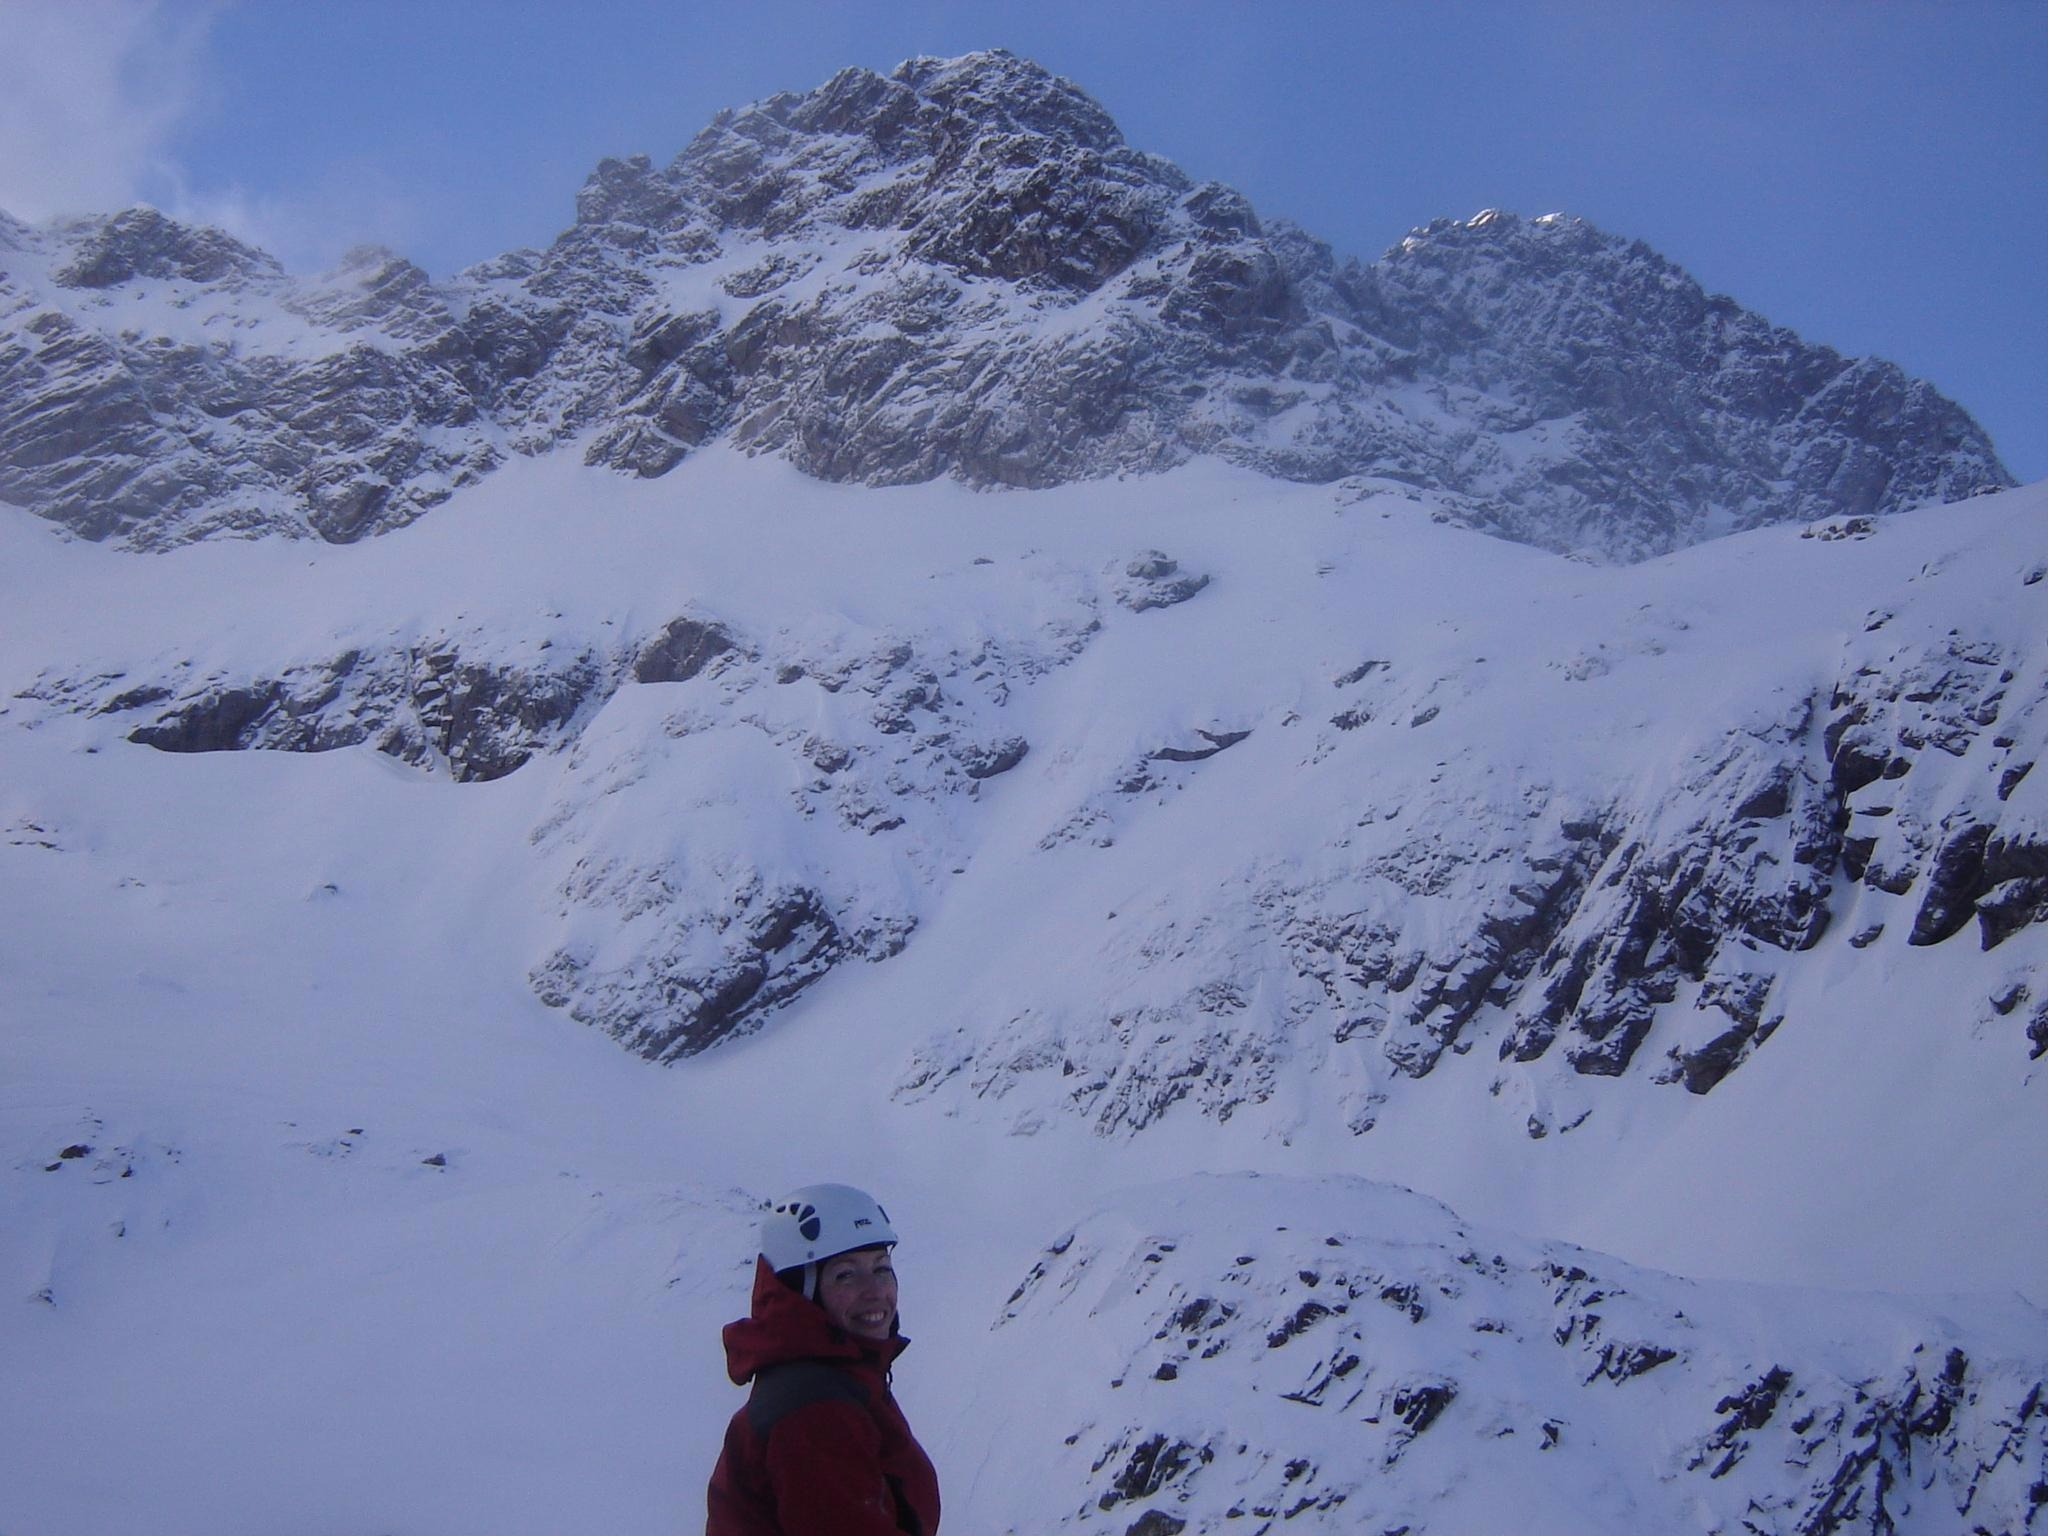helmet: (742, 1170, 905, 1284)
